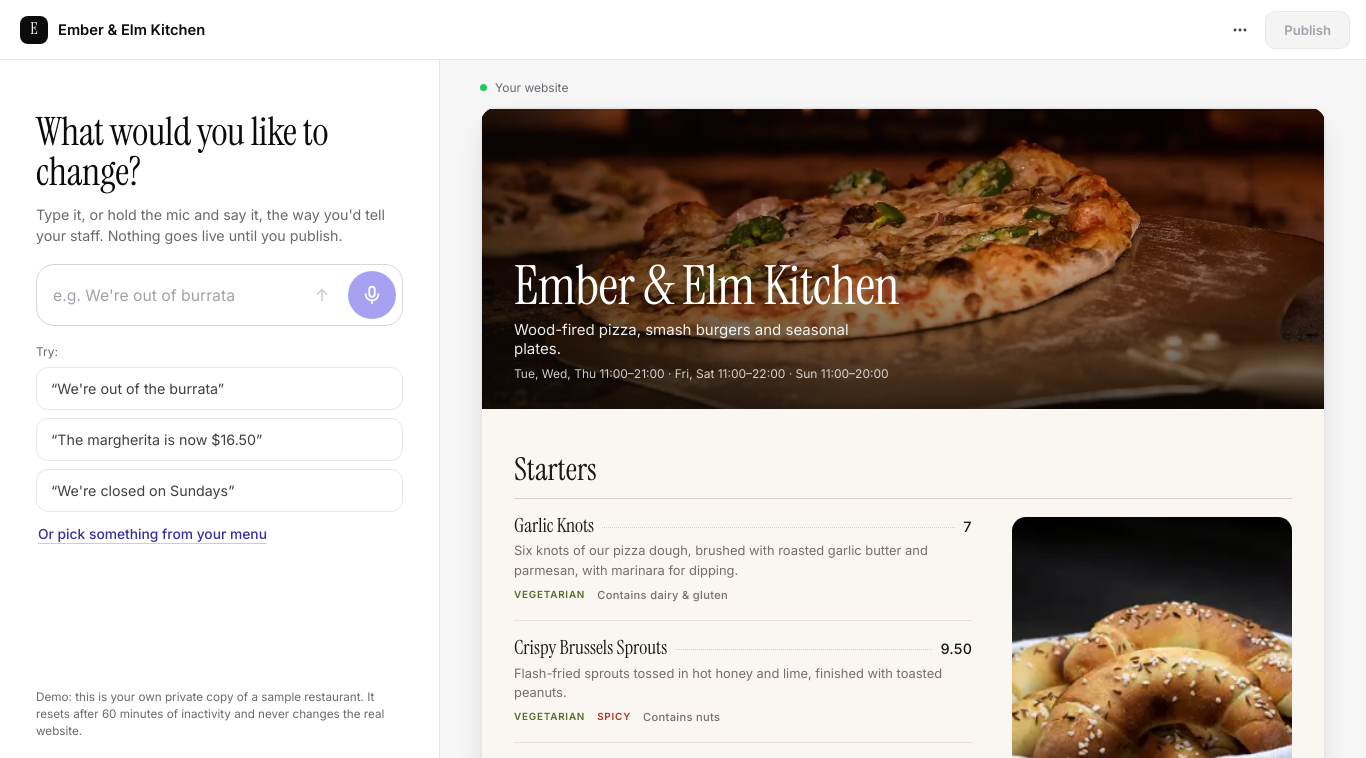
Test: <Editor /> credits › says the AI helper is paused at 0 credits, and in demo mode links the private preview
Click the button named "More".
click(1240, 30)  # box [1221, 10, 1259, 48]
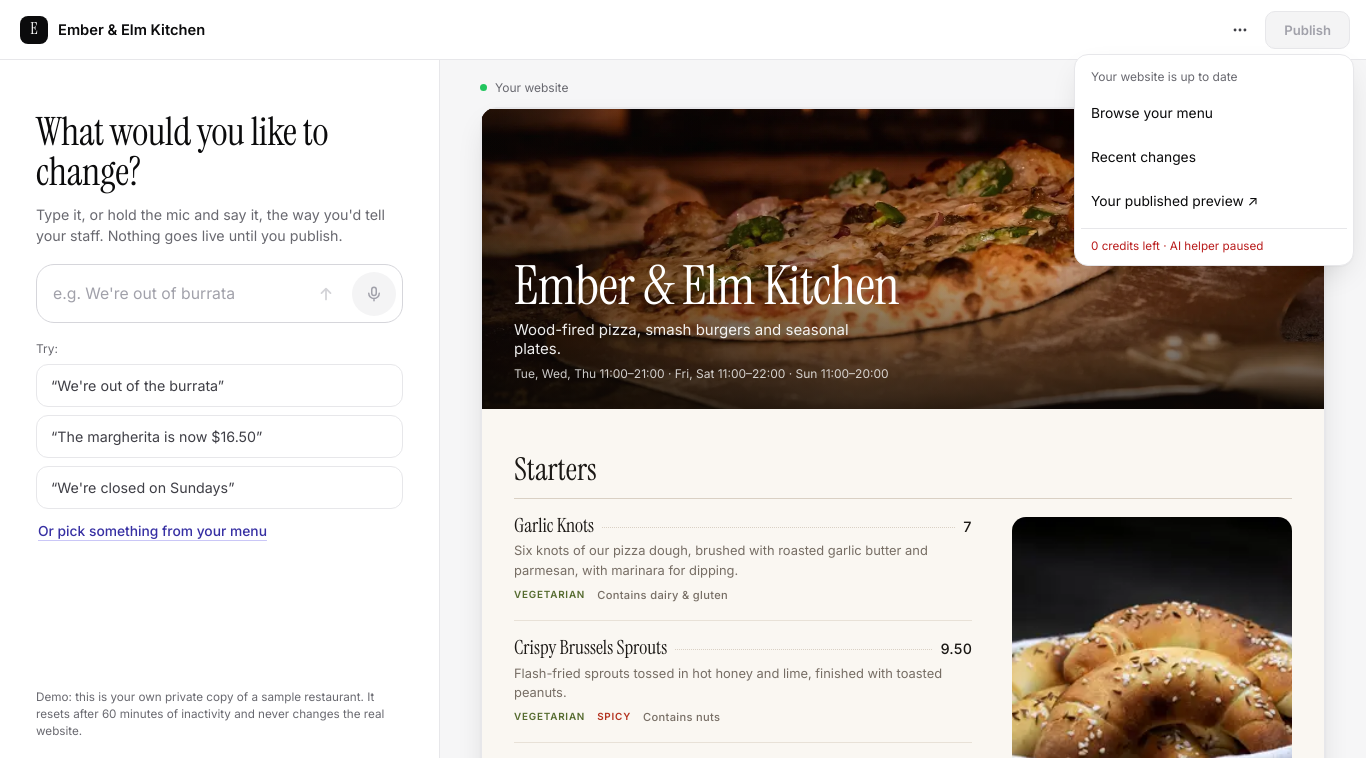
Expected: the text "resets after 60 minutes" is shown, [36, 671, 403, 740]
Now the text with test id "credits" reads "0 credits left · AI helper paused", box [1081, 228, 1347, 259]
